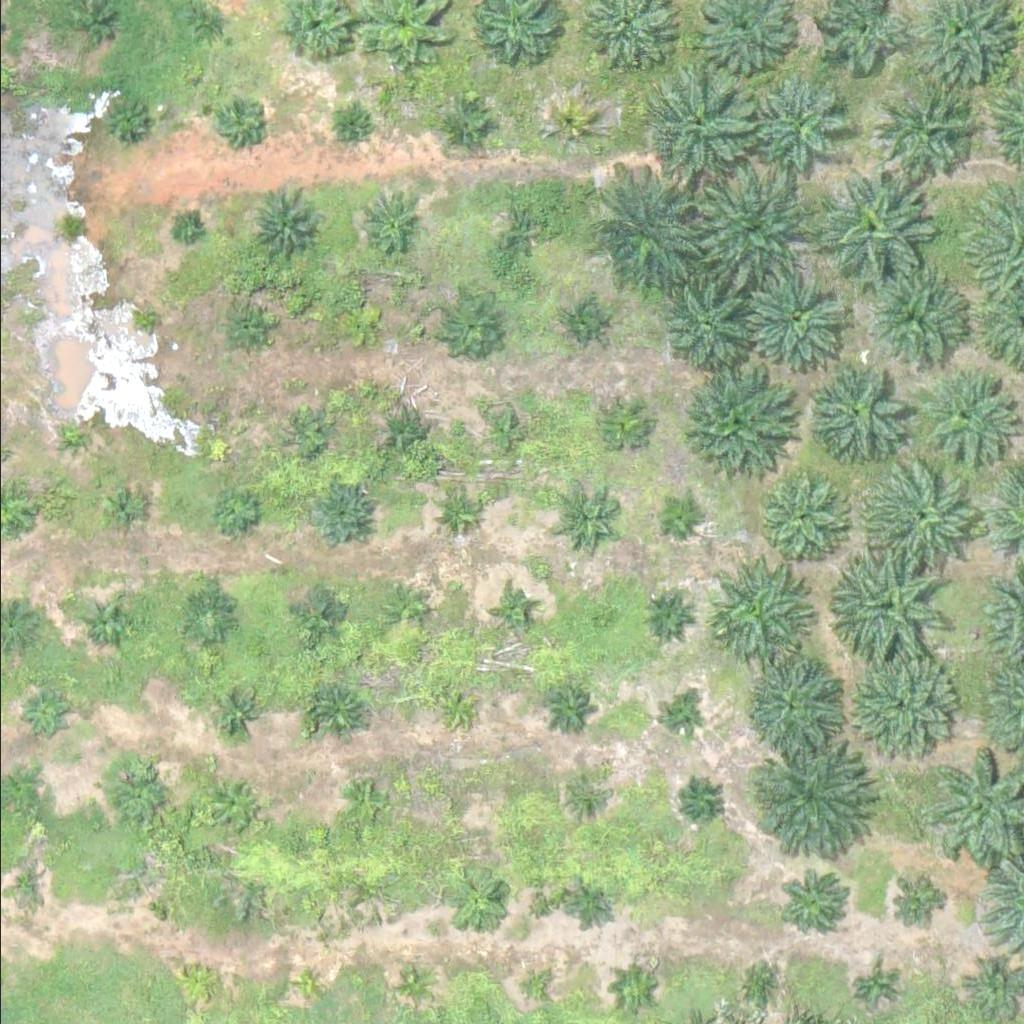Kelapa_Sawit: (824, 546, 950, 671), (858, 454, 984, 579), (693, 164, 819, 289), (582, 172, 708, 297), (744, 742, 869, 867), (674, 363, 788, 476), (843, 643, 956, 756), (637, 72, 750, 185), (744, 264, 858, 376), (824, 174, 938, 286), (693, 552, 806, 664), (744, 653, 845, 753), (750, 467, 851, 567), (914, 368, 1015, 468), (748, 76, 849, 176), (806, 360, 906, 460), (867, 273, 967, 373), (879, 82, 979, 182), (659, 282, 747, 370), (246, 186, 322, 261), (778, 866, 853, 941), (545, 484, 608, 547), (591, 390, 654, 453), (107, 757, 170, 820), (309, 486, 372, 549), (474, 401, 537, 464), (436, 294, 499, 356), (357, 194, 420, 256), (305, 681, 368, 743), (204, 775, 267, 837), (444, 871, 507, 933), (487, 198, 550, 260), (182, 593, 233, 643), (300, 591, 351, 641), (378, 411, 429, 461), (885, 880, 936, 930), (435, 487, 486, 537), (284, 412, 335, 462), (557, 291, 608, 341), (338, 300, 389, 350), (211, 488, 262, 538), (211, 686, 262, 736), (21, 690, 72, 740), (79, 598, 130, 648), (441, 101, 491, 151), (643, 591, 693, 641), (545, 685, 595, 735), (566, 881, 616, 931), (341, 781, 391, 831), (381, 584, 431, 634), (648, 492, 698, 542), (218, 306, 268, 356), (95, 483, 145, 533), (212, 95, 262, 145), (98, 98, 148, 148), (180, 2, 230, 52), (541, 102, 591, 152), (613, 975, 651, 1013), (685, 782, 723, 820), (512, 968, 550, 1006), (393, 966, 431, 1004), (286, 968, 324, 1006), (186, 964, 224, 1002), (439, 690, 477, 728), (494, 593, 532, 631), (659, 699, 697, 736), (561, 776, 599, 813), (432, 788, 470, 825), (134, 871, 172, 908), (852, 966, 889, 1003), (742, 970, 779, 1007), (173, 215, 199, 240), (63, 420, 88, 445), (136, 308, 161, 333), (338, 116, 363, 141)
